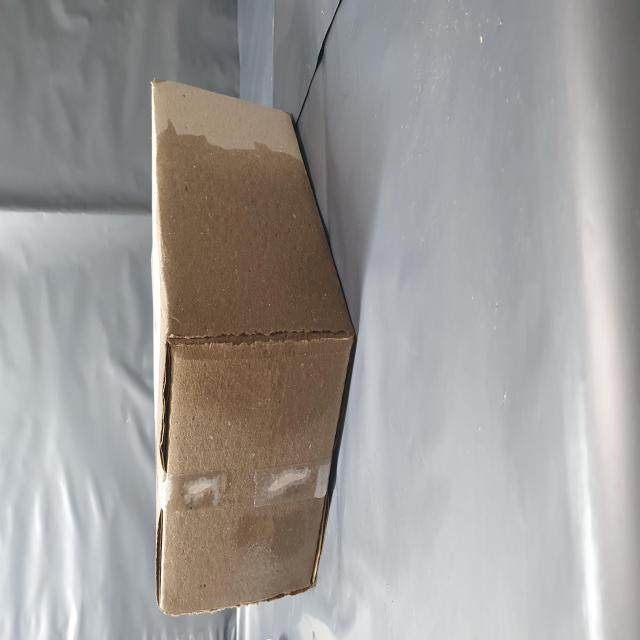wet: (4, 271, 290, 620)
